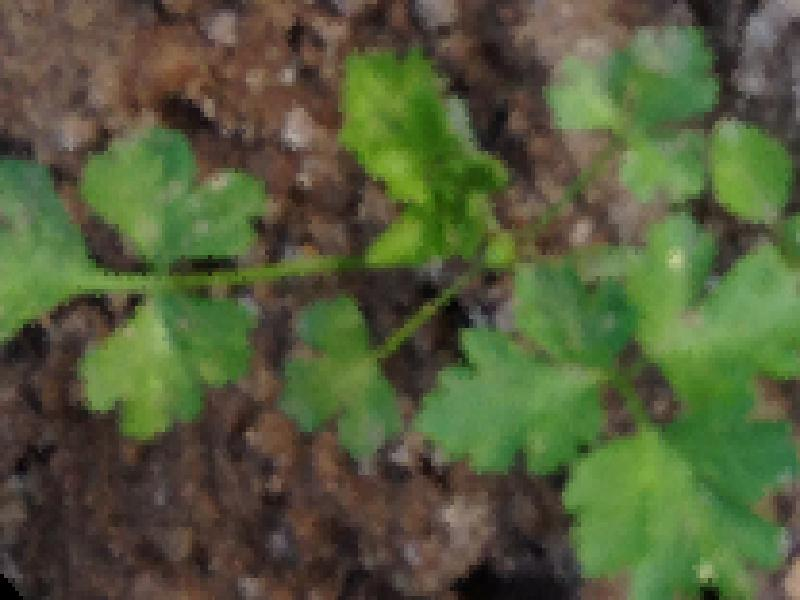radish: (0, 124, 737, 472)
